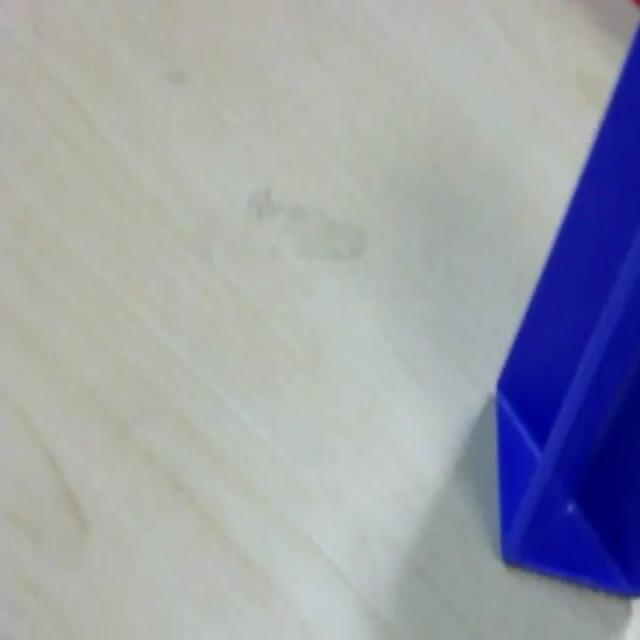blue_block: (494, 20, 638, 597)
